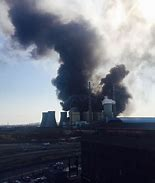smoke: (7, 1, 131, 114)
